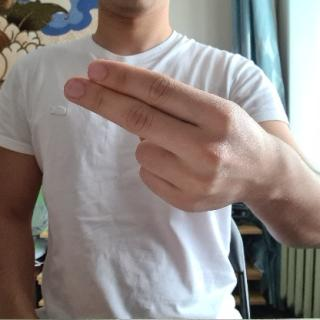AYN: (55, 56, 278, 214)
